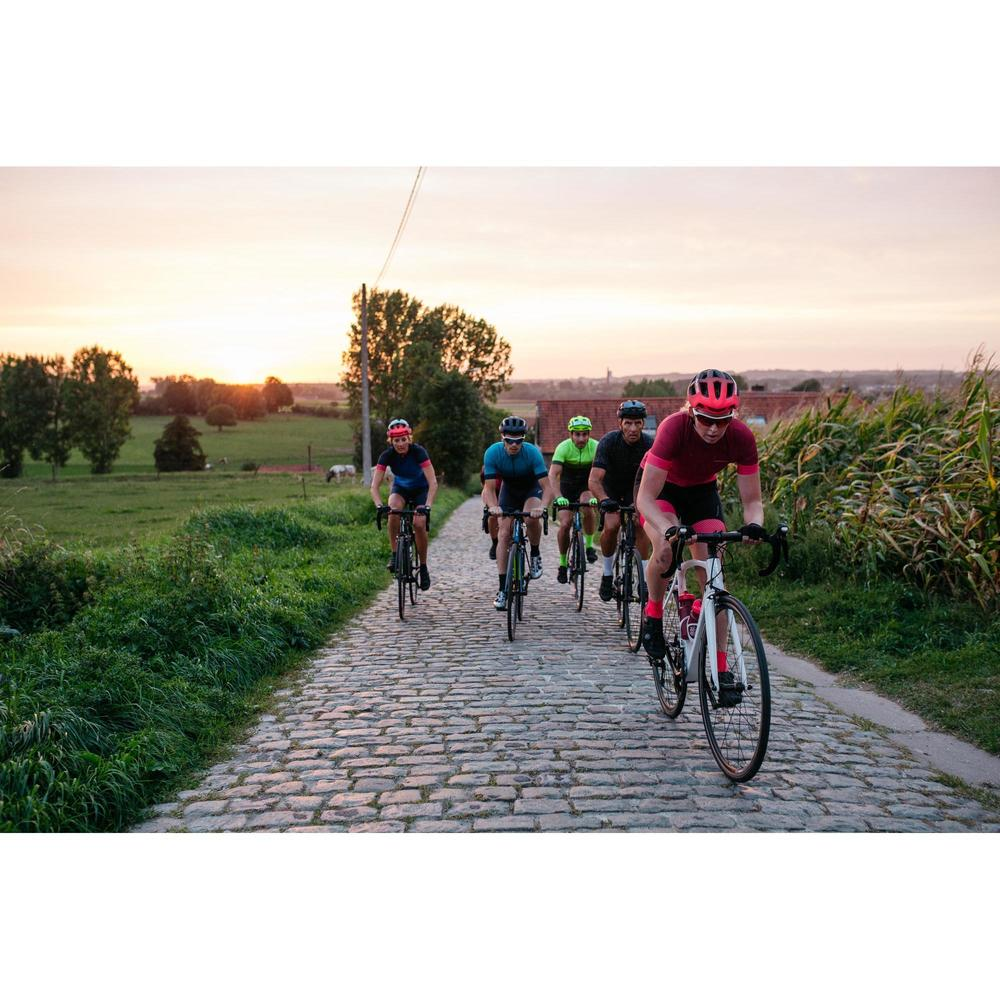RoadBike: (622, 511, 778, 797), (351, 499, 440, 635), (475, 498, 537, 656)
